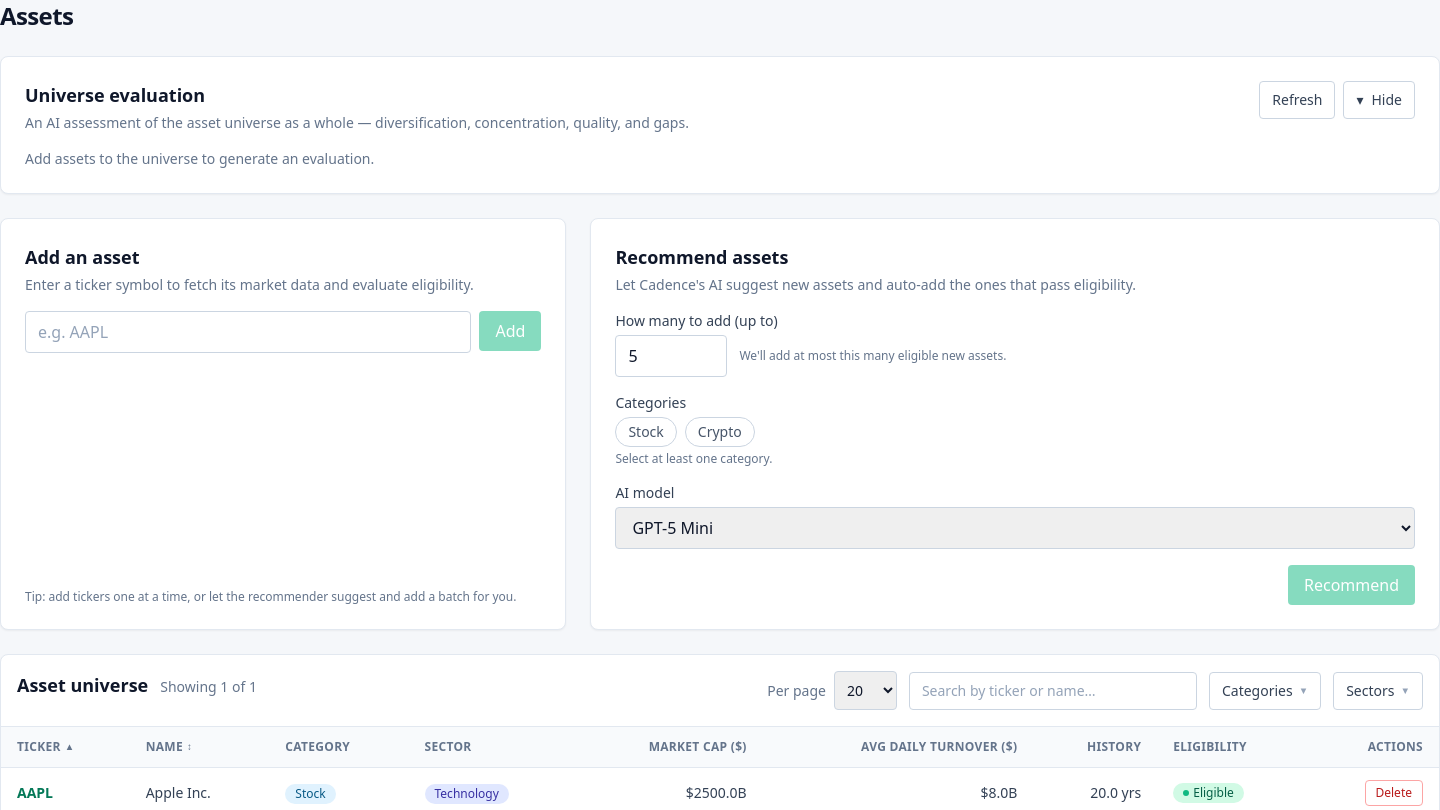
Test: AssetsPage › offers only stock and crypto in the category filter
The image size is (1440, 810).
Click the button "Categories ▼": (1265, 690) [1209, 672, 1321, 710]
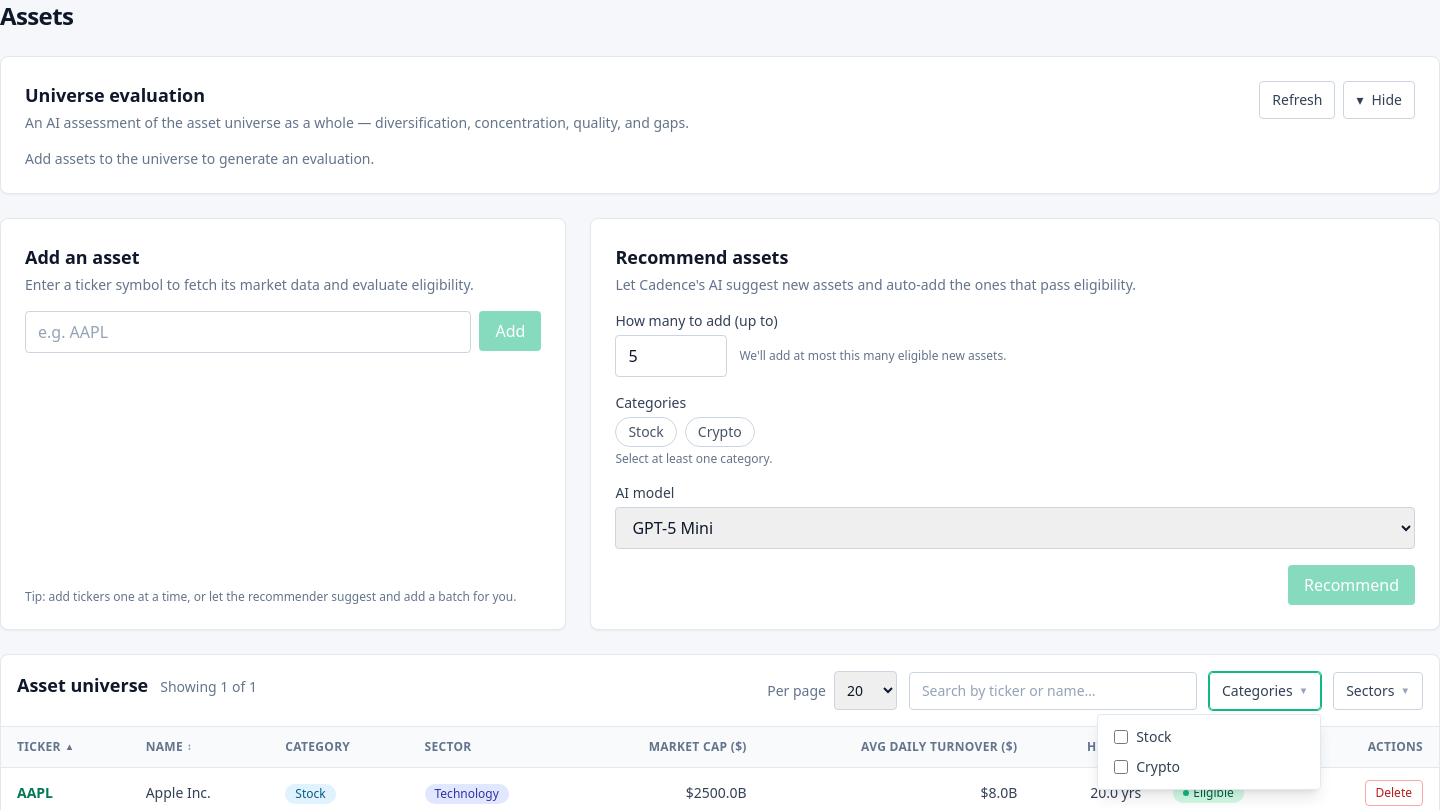
Result: the checkbox named "Filter by Stock" is shown at [1114, 730, 1128, 744]
Result: the checkbox named "Filter by Crypto" is shown at [1114, 760, 1128, 774]
